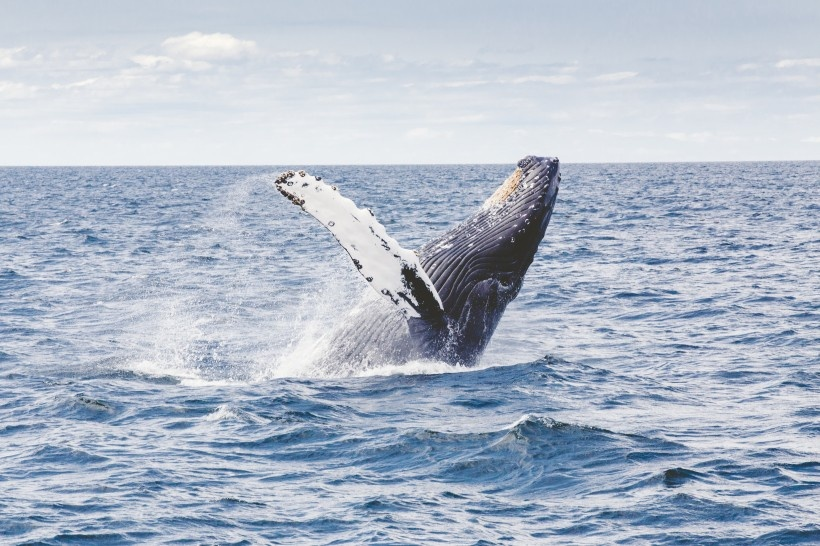fish: (269, 154, 565, 378)
